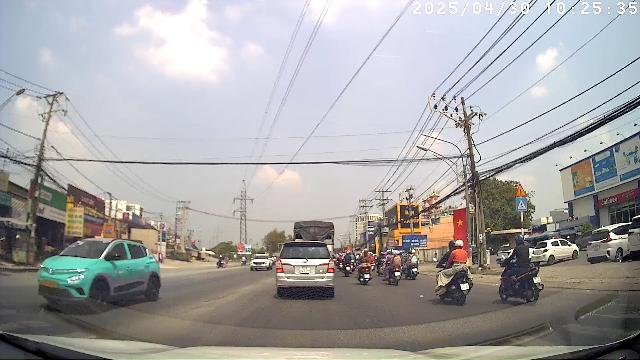423a-duong-nguoi-di-bo-sang-ngang-1: (516, 197, 527, 211)
